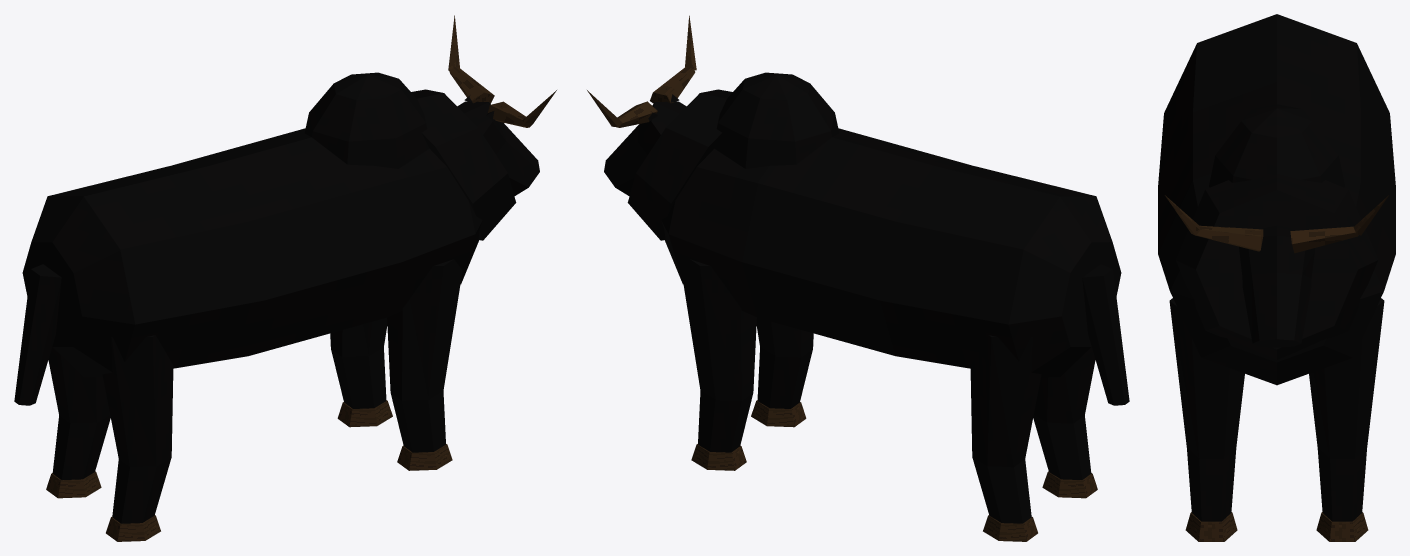
File: yak.glb
3 renders of one model, left to right at view 1: azimuth 30°, elevation 25°; view 2: azimuth 150°, elevation 25°; view 3: azimuth 270°, elevation 25°, orthographic. The views are drawn at different scales.
Parts seen in each view (by area): view 1: cuerpo, pata_trasera_der, pata_delantera_der, joroba, cuello, pata_trasera_izq, cola, pata_delantera_izq, cabeza, cuernos, pezuna_delantera_izq, pezuna_trasera_izq (+2 smaller); view 2: cuerpo, pata_trasera_izq, pata_delantera_izq, joroba, cuello, pata_trasera_der, cola, pata_delantera_der, cabeza, cuernos, pezuna_delantera_der, pezuna_trasera_izq (+2 smaller); view 3: cuerpo, cuello, pata_delantera_izq, pata_delantera_der, joroba, cabeza, cuernos, pezuna_delantera_izq, pezuna_delantera_der.
Part boxes in pixels (x1,y1,x2,y2): cuerpo: (22,128,482,377); pata_trasera_der: (102,335,173,523); pata_delantera_der: (387,259,462,452); joroba: (304,72,429,168); cuello: (411,89,516,240); pata_trasera_izq: (48,347,110,479); cola: (14,264,61,405); pata_delantera_izq: (330,317,387,408); cabeza: (457,101,539,196); cuernos: (448,15,556,127); pezuna_delantera_izq: (337,400,392,427); pezuna_trasera_izq: (46,471,101,498); cuerpo: (661,128,1121,377); pata_trasera_izq: (970,335,1041,523); pata_delantera_izq: (681,259,756,452); joroba: (714,72,839,168); cuello: (627,89,732,240); pata_trasera_der: (1033,347,1095,479); cola: (1082,264,1129,405); pata_delantera_der: (756,317,813,408); cabeza: (604,101,686,196); cuernos: (587,15,696,127); pezuna_delantera_der: (751,400,806,427); pezuna_trasera_izq: (983,515,1037,541); cuerpo: (1158,14,1395,385); cuello: (1175,174,1378,359); pata_delantera_izq: (1309,298,1384,521); pata_delantera_der: (1169,298,1244,521); joroba: (1209,104,1344,187); cabeza: (1239,226,1314,347); cuernos: (1165,195,1388,253); pezuna_delantera_izq: (1316,512,1368,541); pezuna_delantera_der: (1185,512,1237,541).
Size of the model in its own units: 2.5 by 1.7 by 0.9.
Materials: 1 (1 with a texture image).
